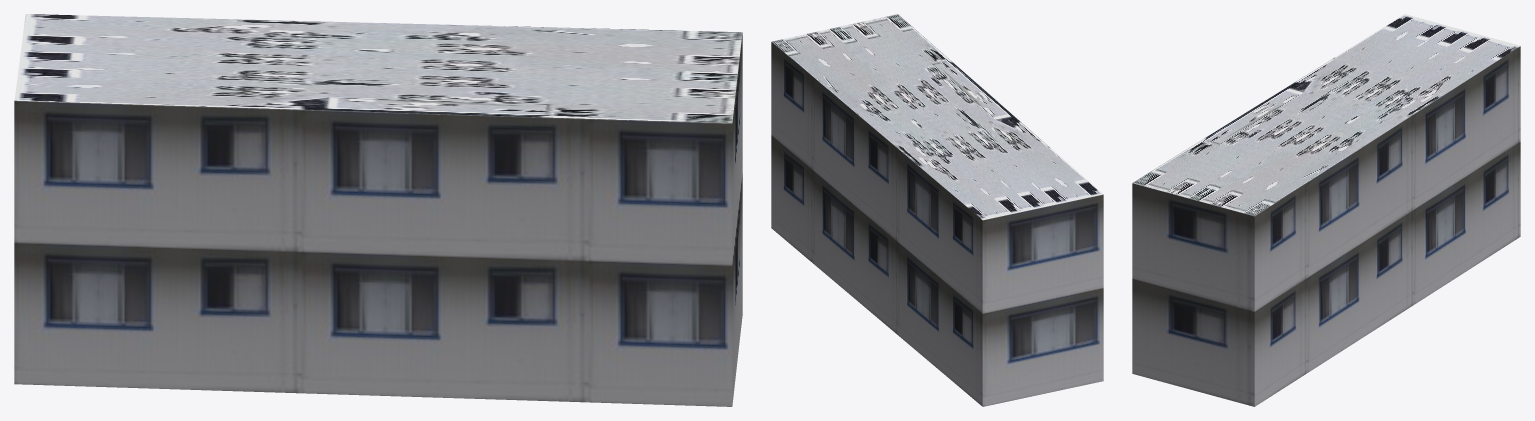
The model's file is ResTex__1902.fbx.
3 renders of one model, left to right at view 1: azimuth 30°, elevation 25°; view 2: azimuth 150°, elevation 25°; view 3: azimuth 270°, elevation 25°, orthographic. The views are drawn at different scales.
Parts seen in each view (by area): view 1: CityEngineMaterial_9_m, CityEngineMaterial_2_m; view 2: CityEngineMaterial_9_m, CityEngineMaterial_2_m; view 3: CityEngineMaterial_9_m, CityEngineMaterial_2_m.
Boxes of the visible parts, x1,y1,x2,y2 form: CityEngineMaterial_9_m: [14, 32, 742, 406]; CityEngineMaterial_2_m: [14, 14, 742, 123]; CityEngineMaterial_9_m: [771, 42, 1103, 406]; CityEngineMaterial_2_m: [772, 14, 1103, 220]; CityEngineMaterial_9_m: [1132, 46, 1520, 406]; CityEngineMaterial_2_m: [1132, 14, 1519, 216].
Bounding box in the file's own units: 13.65 × 6 × 11.08.
Materials: 2 (2 with a texture image).
